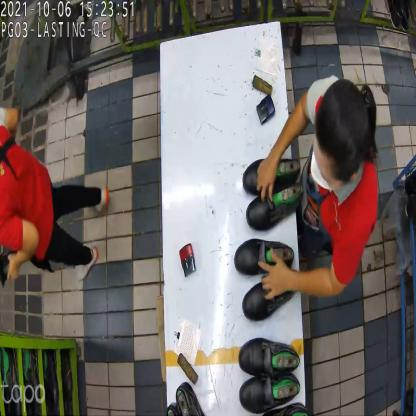shoes: (234, 336, 305, 409), (233, 241, 296, 310), (245, 157, 304, 219)
stamp: (254, 94, 274, 128), (179, 246, 198, 278)
